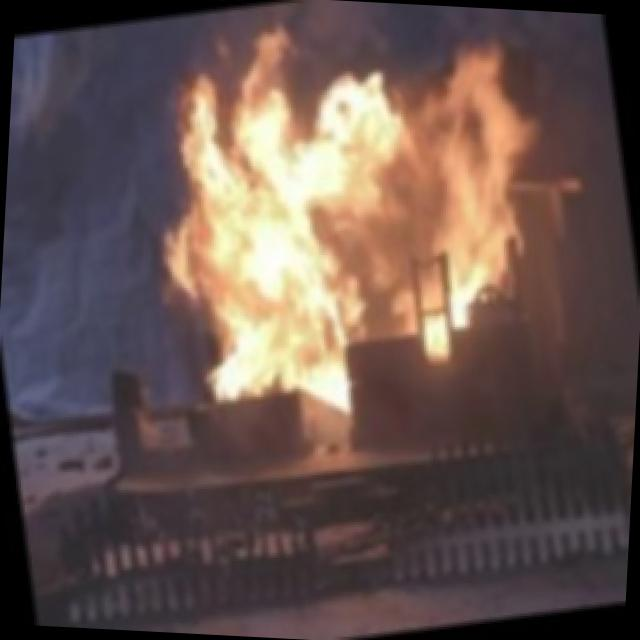fire: (114, 0, 559, 413)
